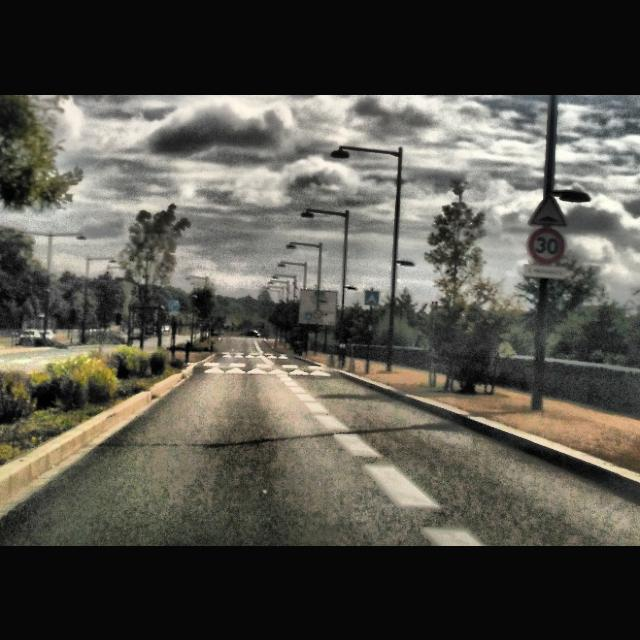speed_30: (528, 228, 566, 262)
